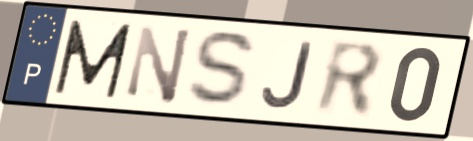0: (385, 44, 446, 125)
J: (259, 38, 317, 111)
M: (51, 17, 136, 101)
N: (123, 23, 196, 108)
R: (312, 36, 386, 122)
S: (183, 28, 262, 111)
